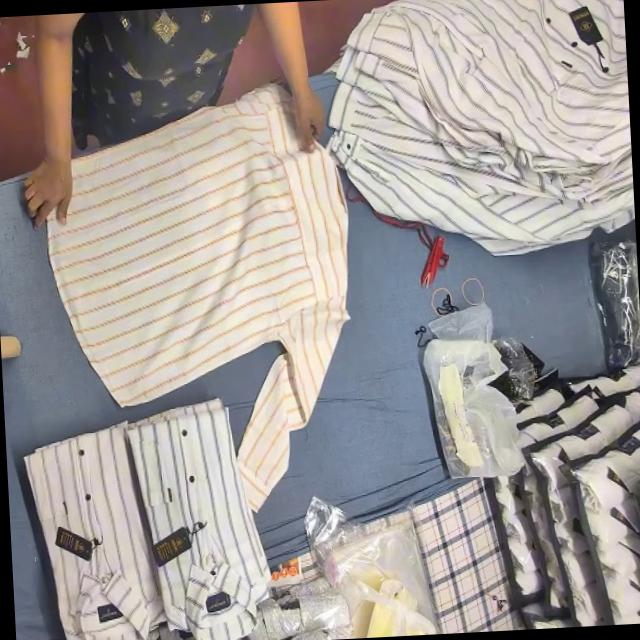new-garment: (48, 87, 348, 510)
